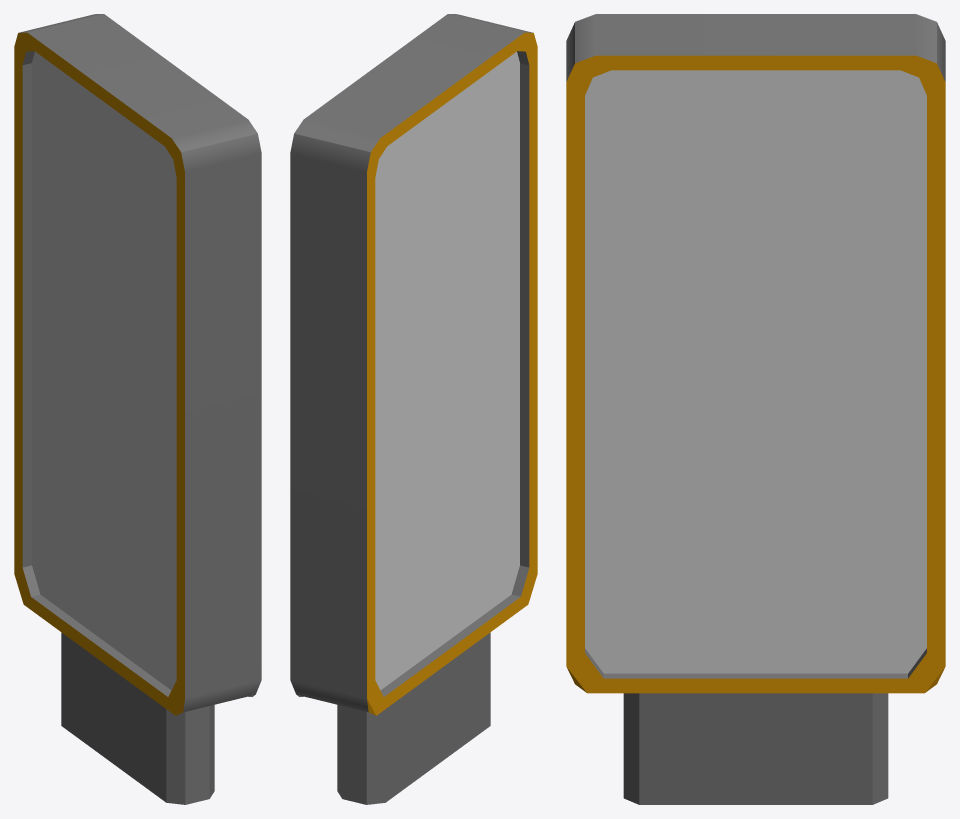
The model's file is AdStreetSign.fbx.
3 views of the same model, side by side, from view 1: azimuth 30°, elevation 25°; view 2: azimuth 150°, elevation 25°; view 3: azimuth 270°, elevation 25° (orthographic). The views are drawn at different scales.
Parts seen in each view (by area): view 1: NeonSign; view 2: NeonSign; view 3: NeonSign.
Boxes of the visible parts, <box> form: NeonSign: <box>14,14,261,804</box>; NeonSign: <box>290,14,537,804</box>; NeonSign: <box>566,14,945,804</box>.
Bounding box in the file's own units: 51.74 × 440 × 200.
